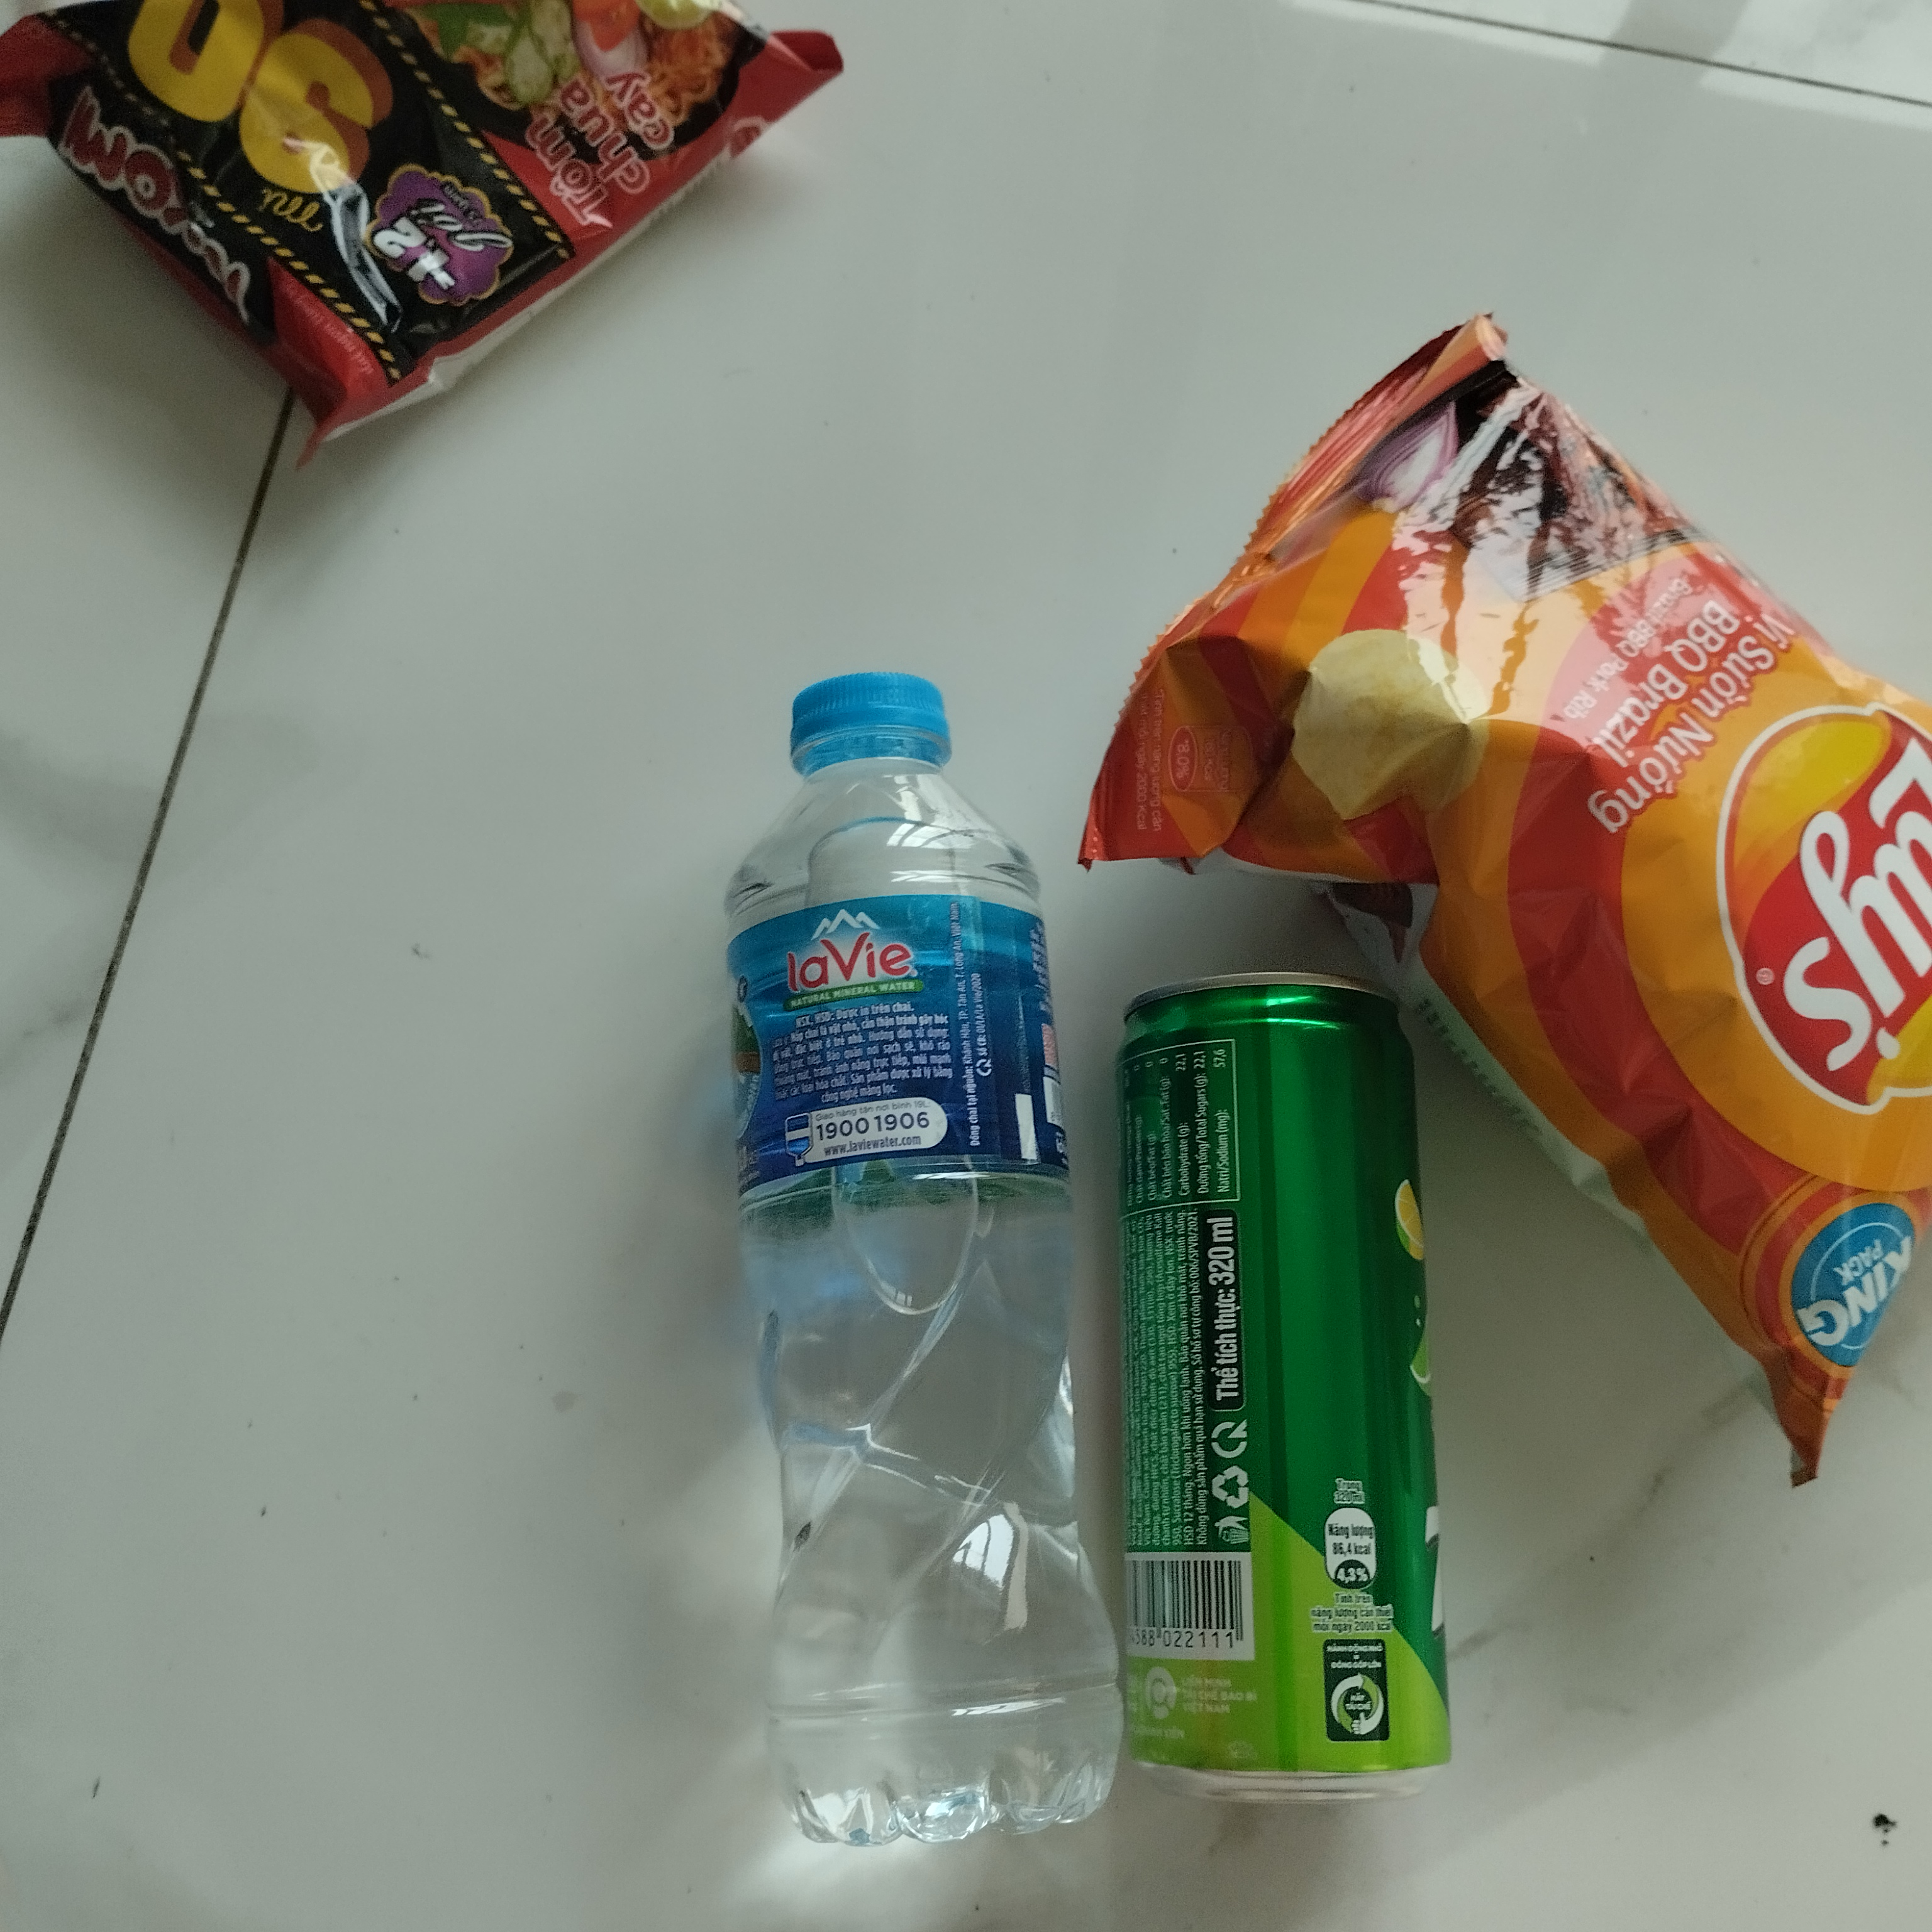7up: (1100, 941, 1472, 1817)
Kokomi: (4, 4, 849, 483)
Lavie: (688, 665, 1131, 1847)
Lays: (1070, 297, 1932, 1493)
